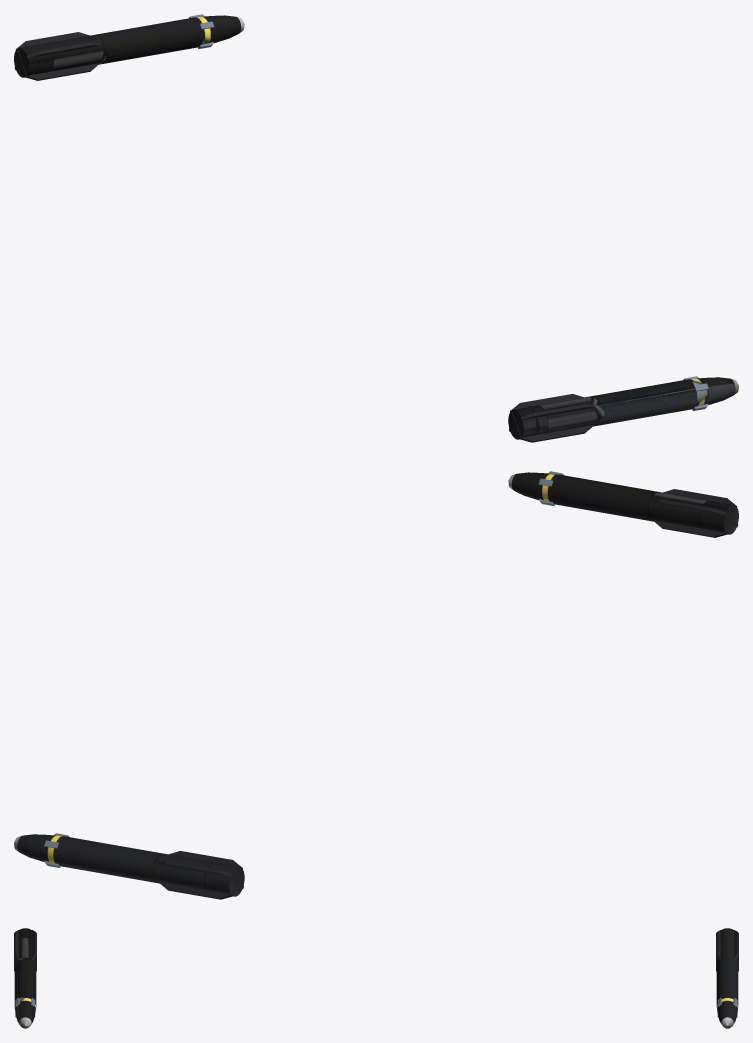
The model's file is ac182agm11416.glb.
3 renders of one model, top to bottom at view 1: azimuth 30°, elevation 25°; view 2: azimuth 150°, elevation 25°; view 3: azimuth 270°, elevation 25°, orthographic. The views are drawn at different scales.
Visible parts, largest first — view 1: 円柱.091, 円柱.007; view 2: 円柱.007, 円柱.091; view 3: 円柱.091, 円柱.007.
Part boxes in pixels (left/top/right/bottom): 円柱.091: left=14, top=14, right=244, bottom=80; 円柱.007: left=508, top=376, right=738, bottom=442; 円柱.007: left=508, top=471, right=738, bottom=537; 円柱.091: left=14, top=833, right=244, bottom=899; 円柱.091: left=716, top=928, right=738, bottom=1028; 円柱.007: left=14, top=928, right=36, bottom=1028.
Bounding box in the file's own units: 1.93 × 0.3279 × 7.6.
Materials: 3 (1 with a texture image).
